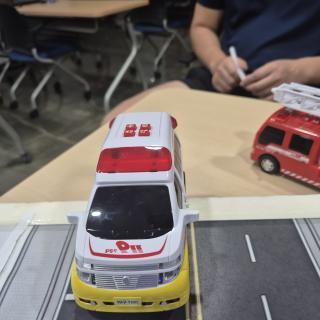Ambulance: (67, 112, 199, 312)
